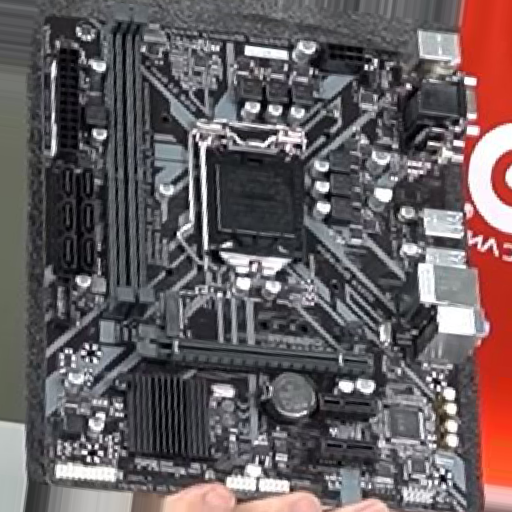CPU: (188, 121, 311, 302)
GPU: (137, 326, 374, 381)
MOTHERBOARD: (29, 15, 483, 501)
RAM: (100, 13, 155, 317)
SSD: (159, 292, 184, 337)
